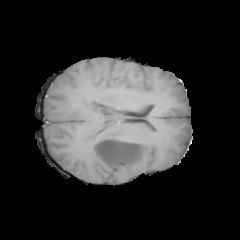glioma: (91, 74, 151, 170)
